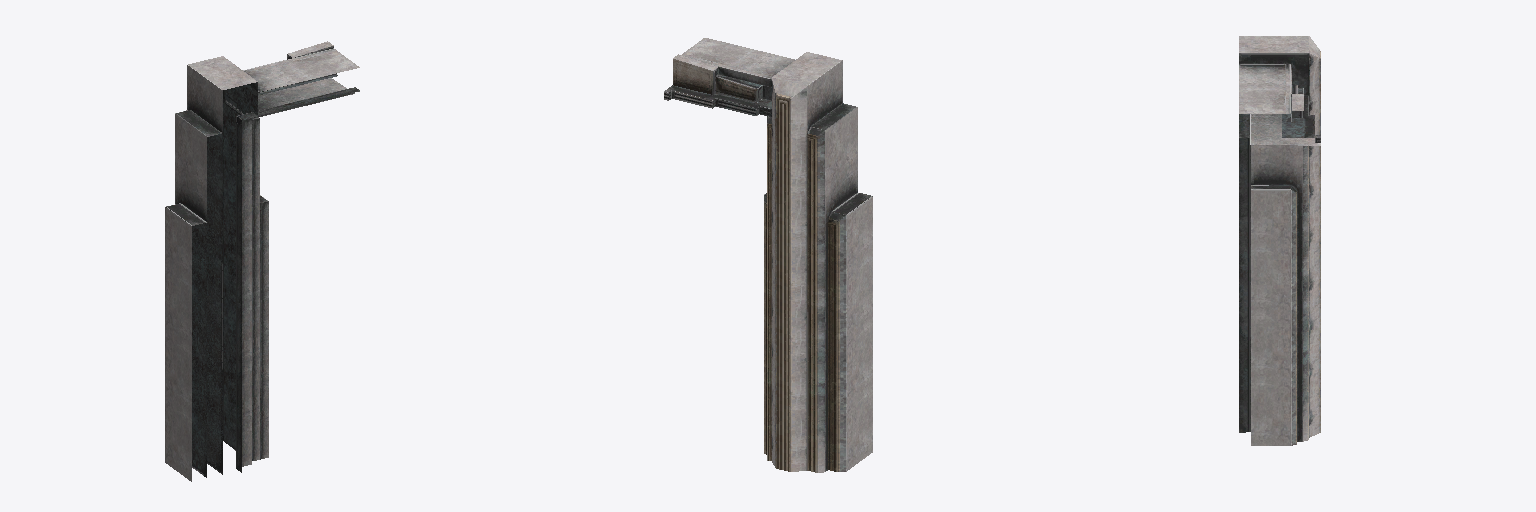
3 renders of one model, left to right at view 1: azimuth 30°, elevation 25°; view 2: azimuth 150°, elevation 25°; view 3: azimuth 270°, elevation 25°, orthographic.
Visible parts, largest first — view 1: door_frame_right; view 2: door_frame_right; view 3: door_frame_right.
Part boxes in pixels (x1,y1,x2,y2): door_frame_right: (165, 41, 359, 481); door_frame_right: (664, 38, 872, 472); door_frame_right: (1239, 36, 1320, 445).
Size of the model in its own units: 133 by 290 by 56.
1 materials, 1 textured.